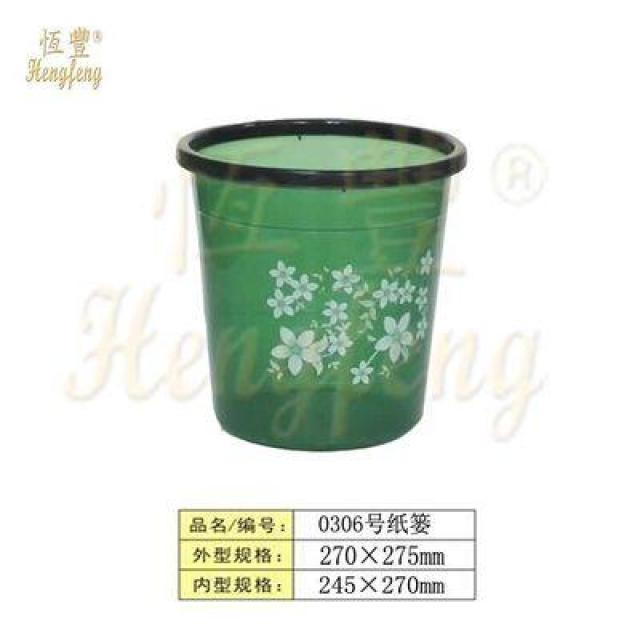Dustbin: (174, 110, 470, 458)
